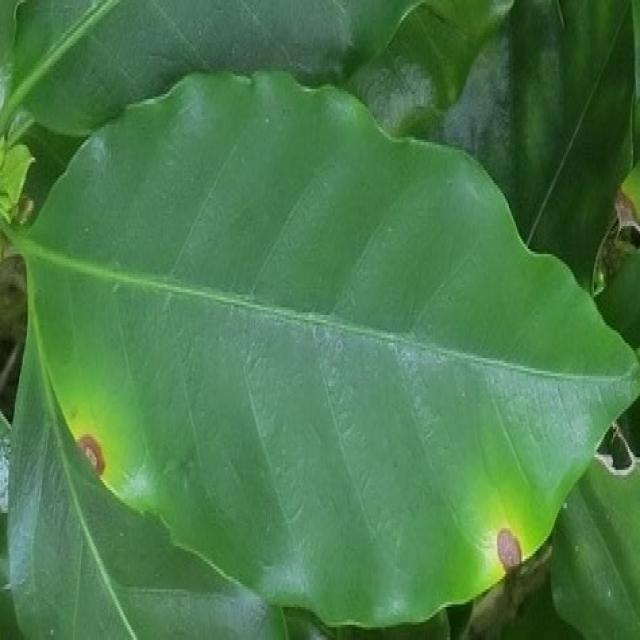Enfermedad-Mancha-de-hierro: (15, 71, 640, 627)
